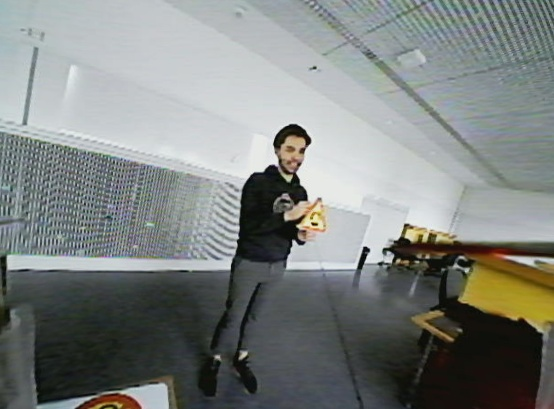roundabout_warning: (292, 189, 333, 239)
